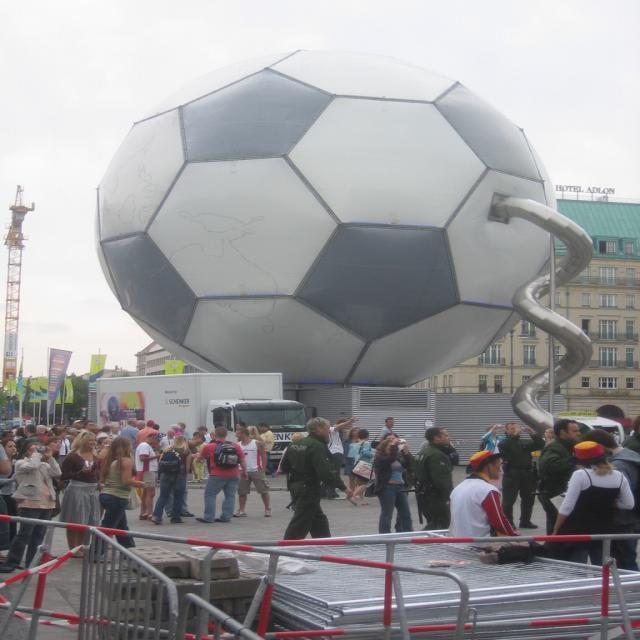ball: (91, 44, 561, 387)
